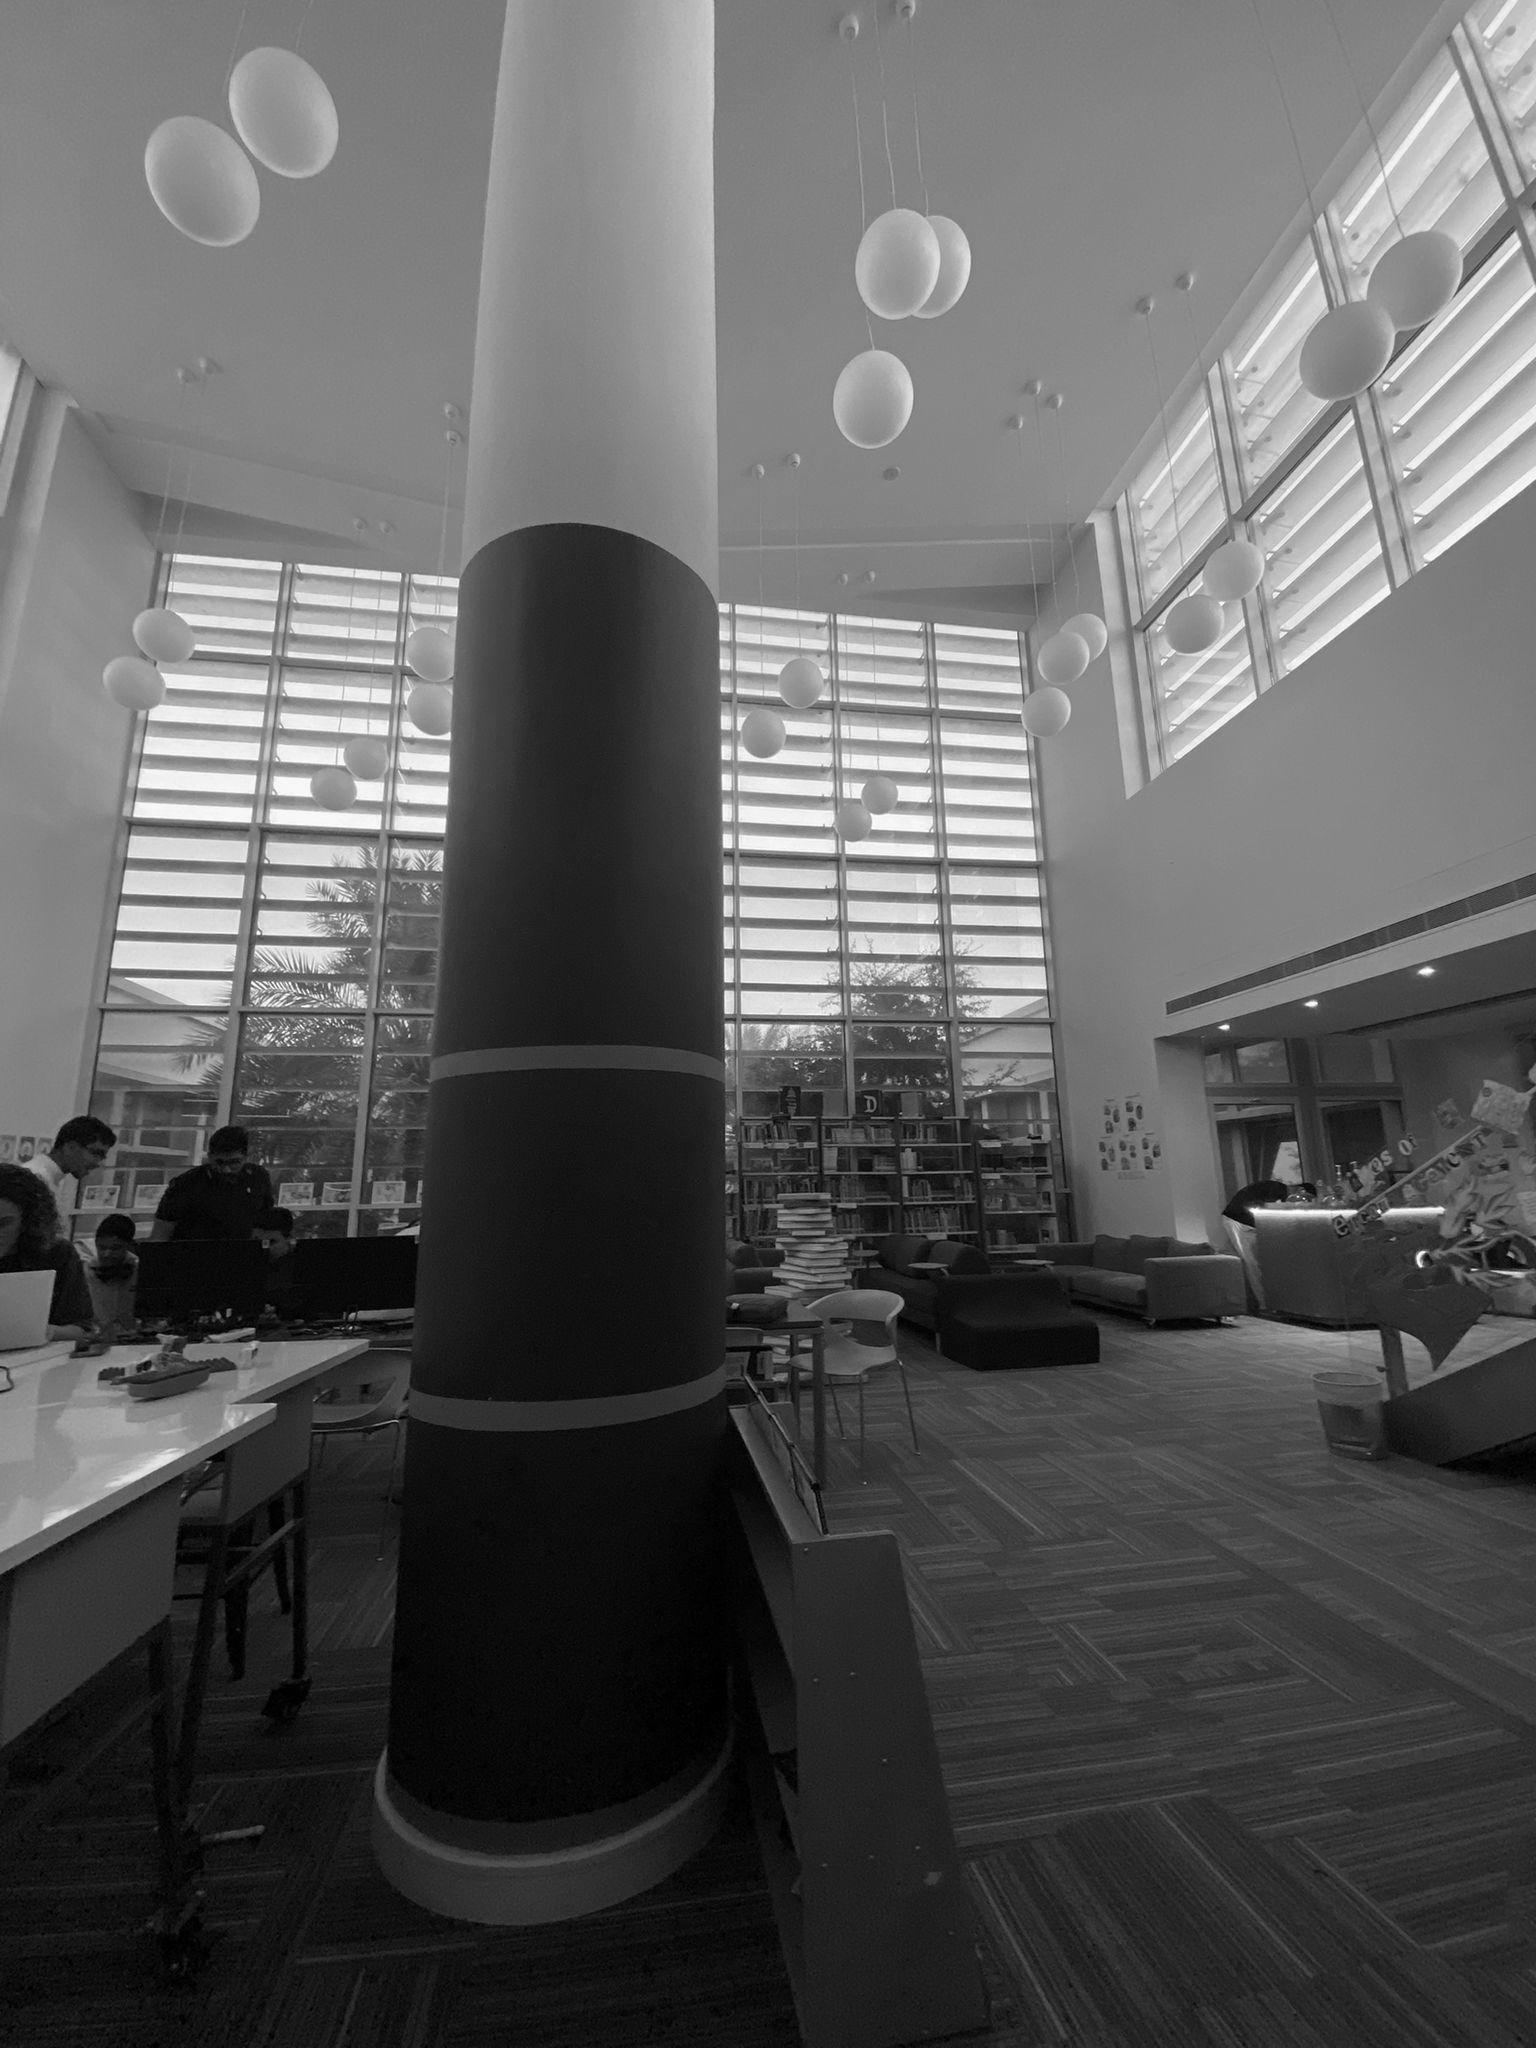Couch: (1041, 1234, 1246, 1324), (936, 1271, 1099, 1369), (871, 1235, 987, 1334)
Pillar: (373, 0, 733, 1924)
